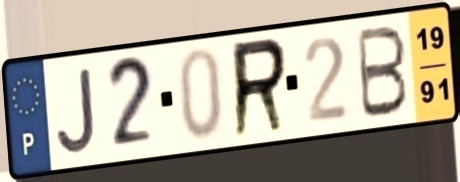0: (175, 44, 229, 146)
2: (103, 53, 164, 158), (301, 33, 348, 125)
B: (355, 24, 411, 122)
J: (54, 63, 99, 157)
R: (230, 34, 290, 143)
